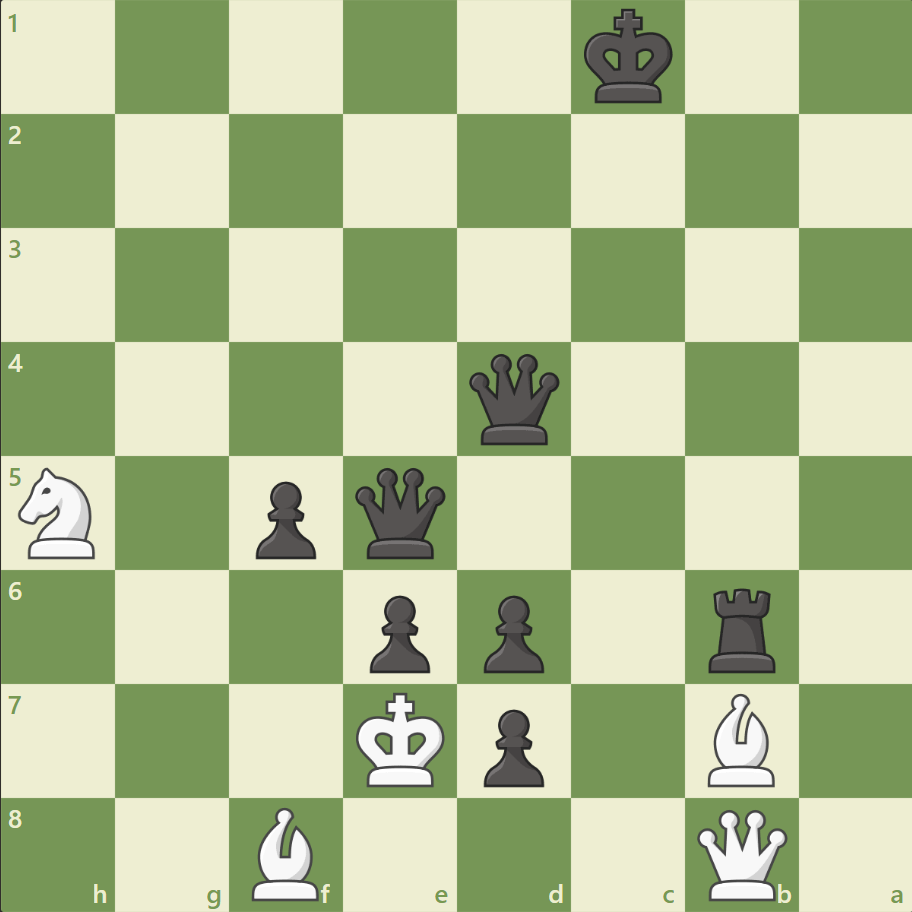B: (244, 801, 328, 904), (698, 687, 782, 790)
K: (351, 685, 451, 793)
N: (11, 461, 108, 564)
Q: (691, 804, 790, 903)
k: (579, 4, 679, 112)
p: (474, 700, 549, 791), (474, 586, 549, 677), (247, 473, 322, 564), (361, 586, 435, 677)
q: (464, 349, 563, 449), (351, 463, 450, 562)
r: (700, 579, 783, 676)
